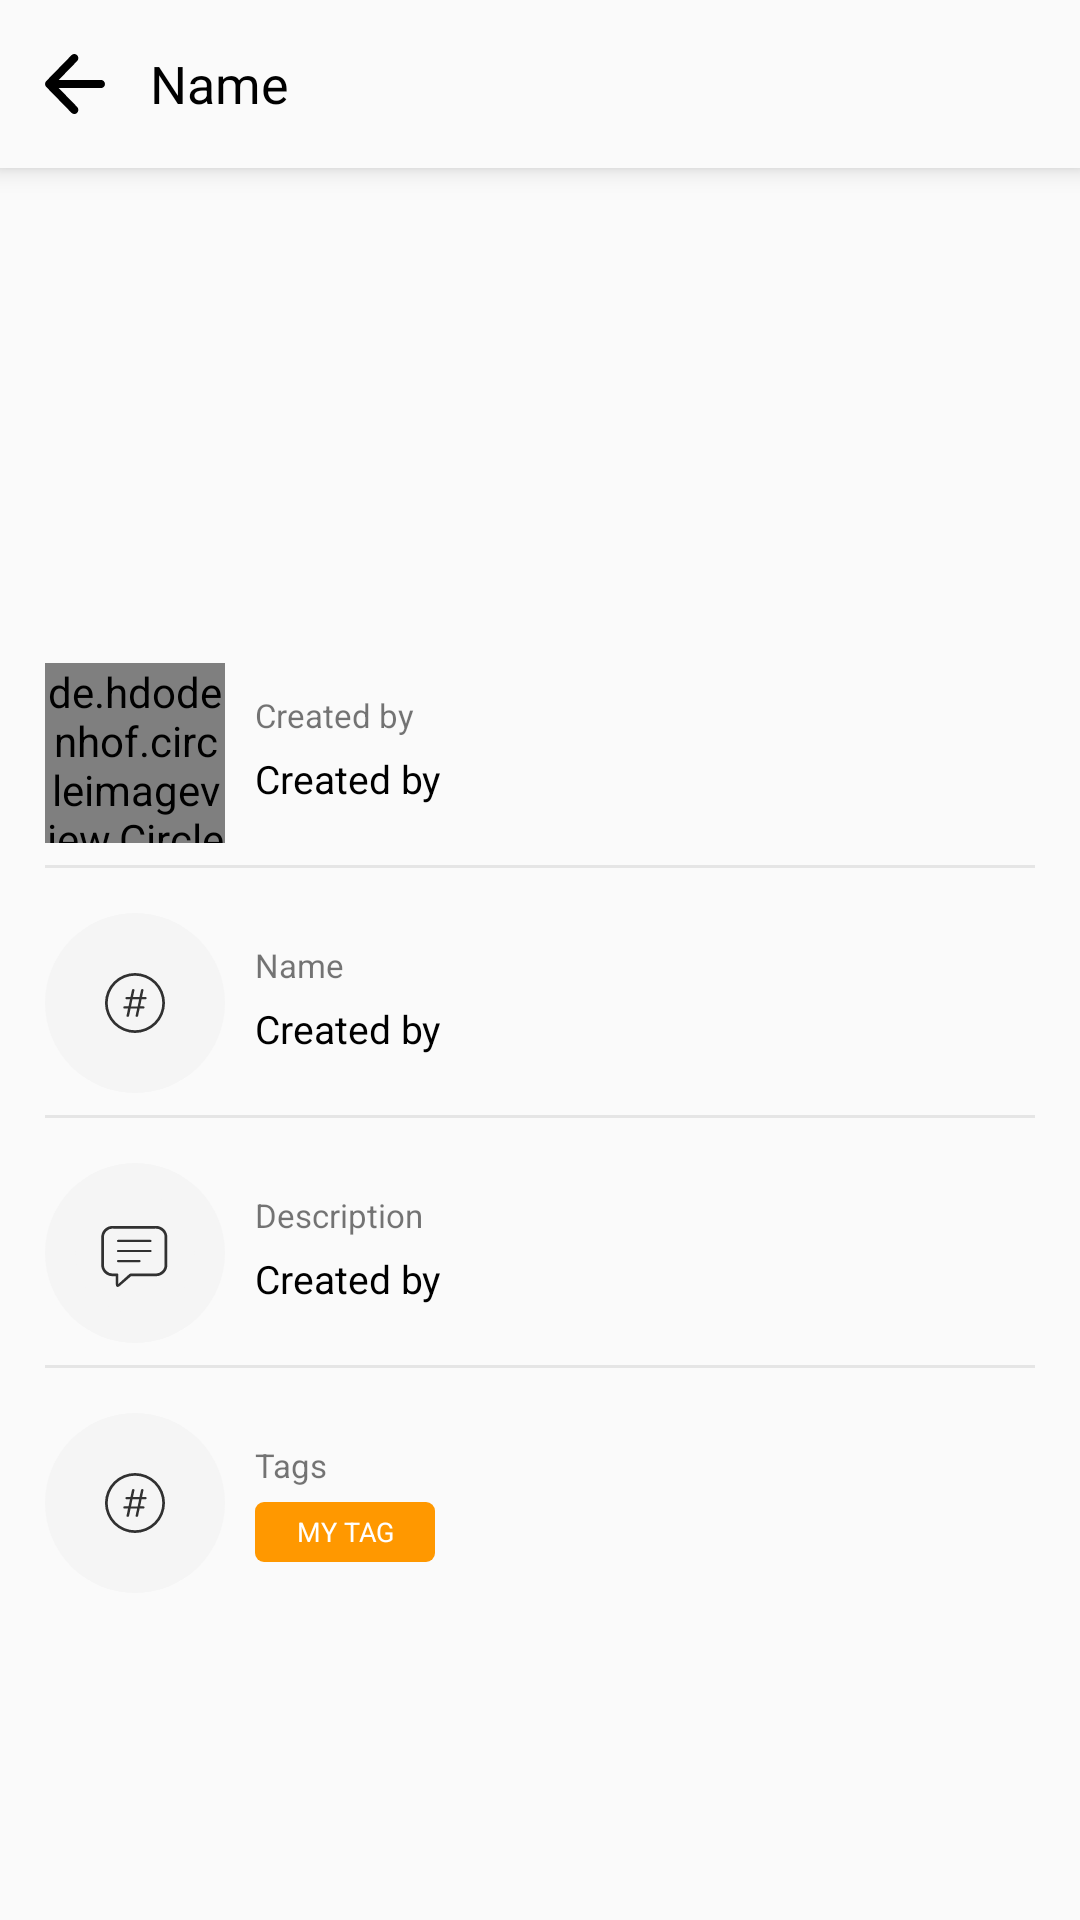

Icons on this 1080×1920 Android screen, each with its box as (x1, y1, x2, y2):
back: (45, 54, 105, 114)
hash no: (105, 973, 165, 1033), (105, 1473, 165, 1533)
